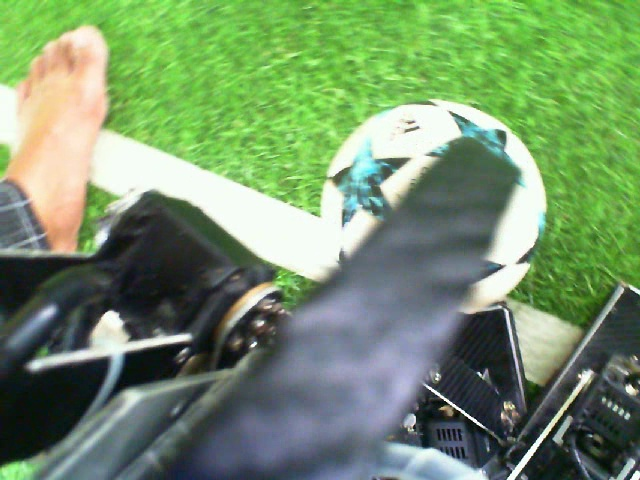ball: (317, 97, 469, 276)
